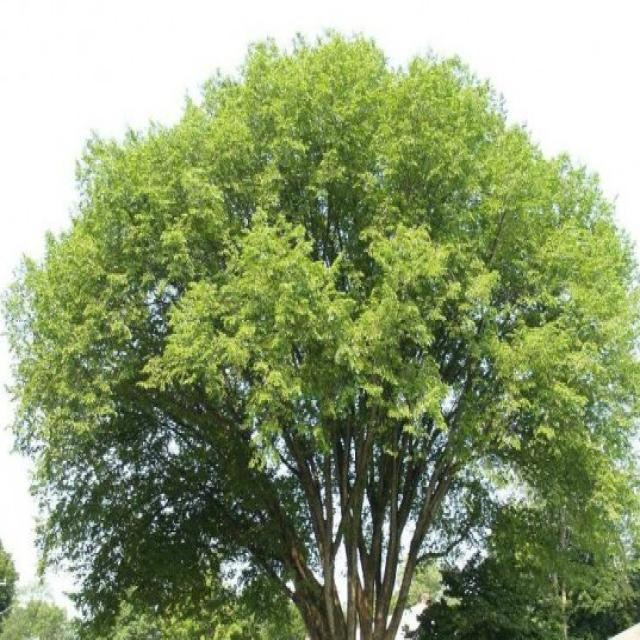Tree: (9, 22, 636, 640)
